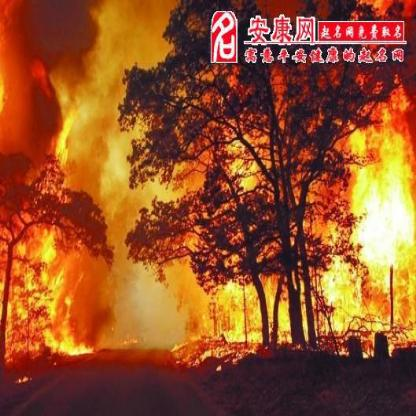fire: (344, 85, 414, 339), (20, 204, 96, 362), (194, 270, 344, 344), (215, 127, 269, 188)
smoke: (4, 3, 100, 162)
